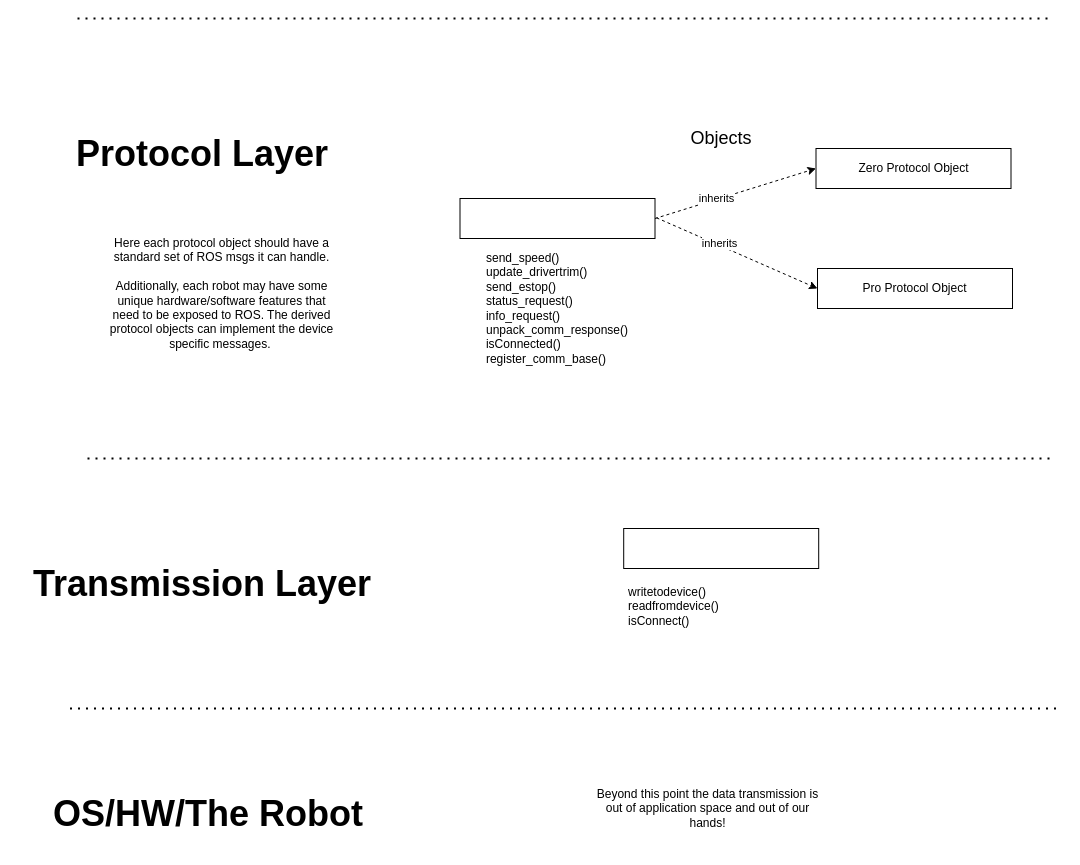
The diagram is 1080 pixels wide and 865 high, and some of its shapes have lost their labels. The centre of each missing label's shape, as x and y in pixels:
"Base Protocol Object (Pure Virtual)" goes at [557,218].
"Comm Manager" goes at [721,548].
